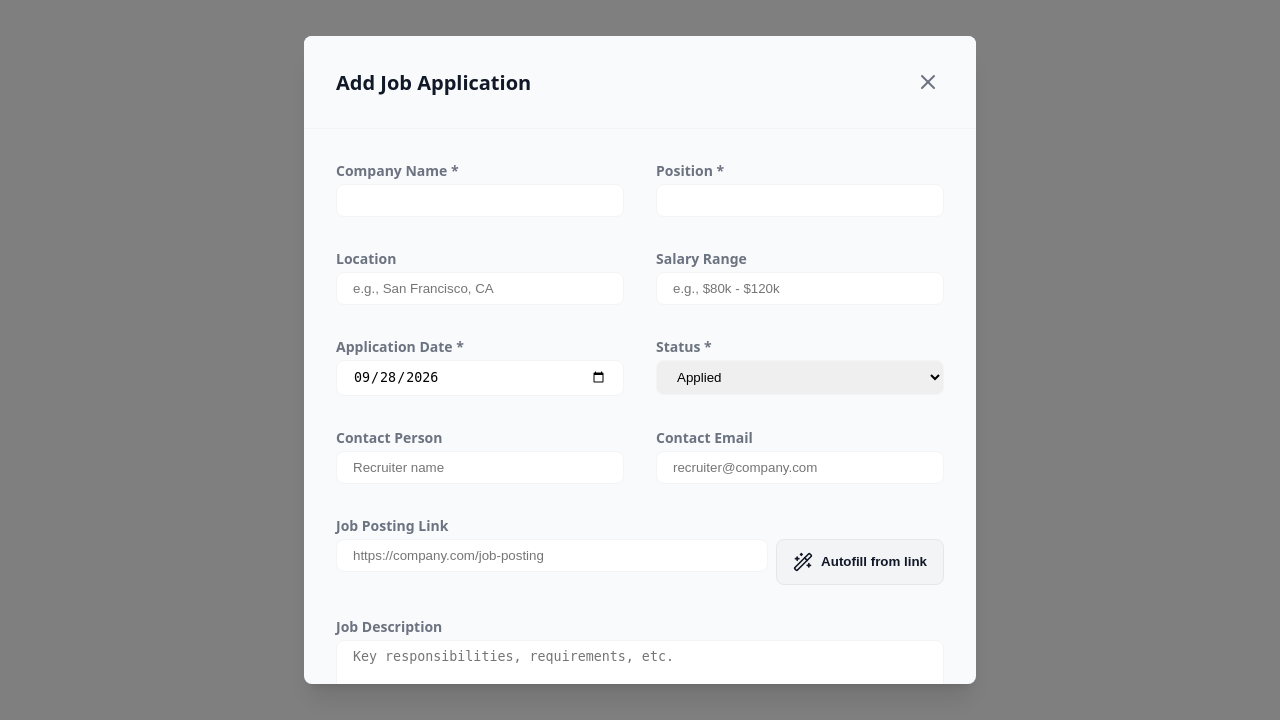
JobApplicationForm autofill › fills in the fields returned by the parse-job-posting service on success
The image size is (1280, 720).
In the field with placeholder "https://company.com/job-posting": (552, 555) [336,538,768,572], type "https://example.com/jobs/123"
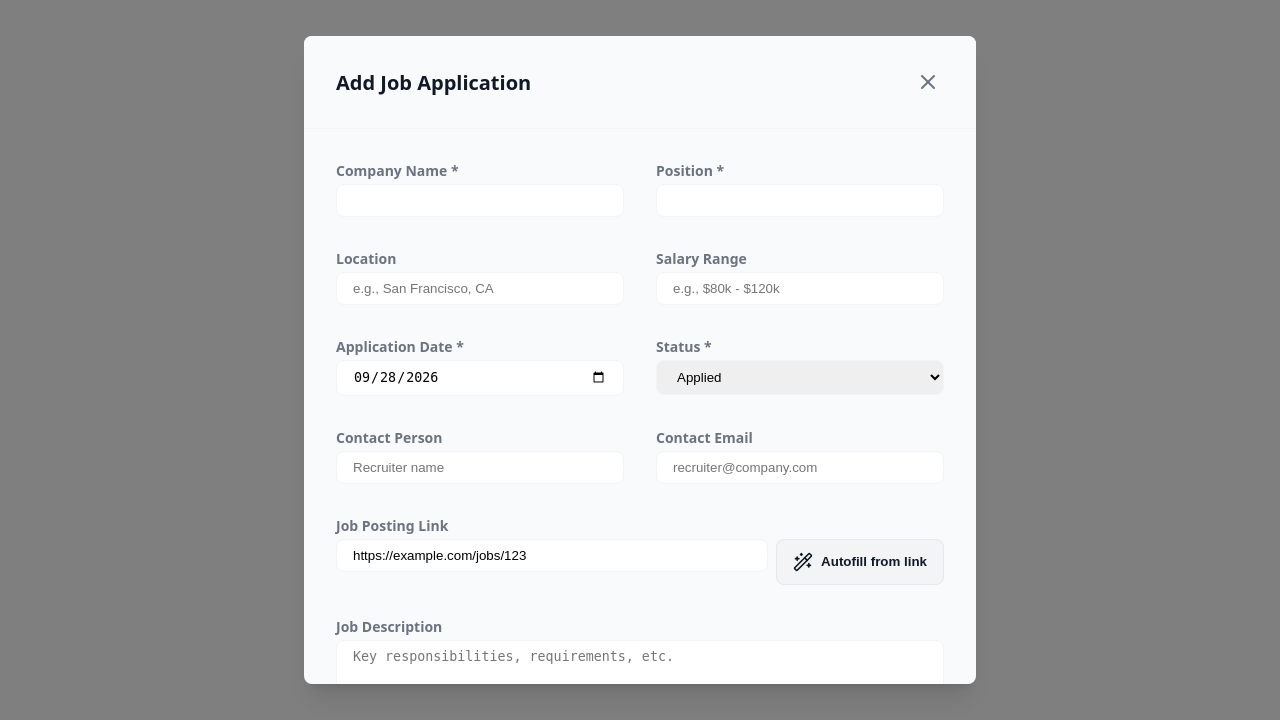
Click the button "Autofill from link": (860, 562) [776,538,944,584]
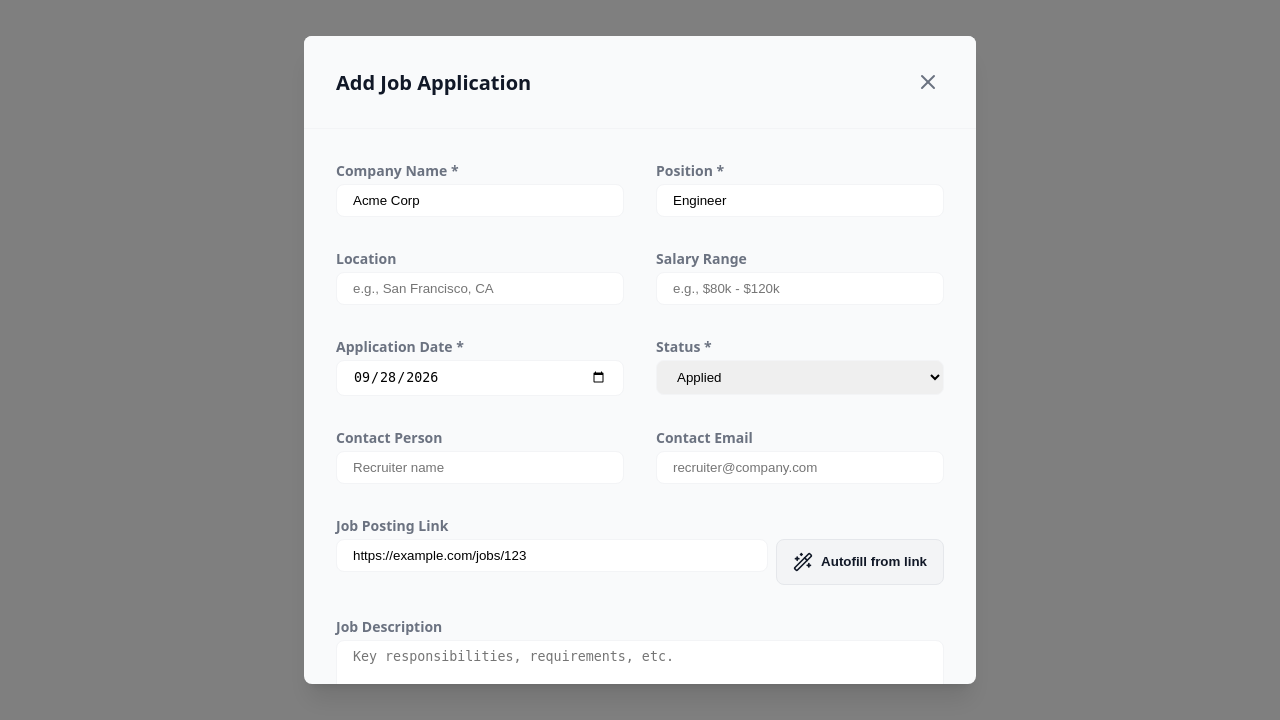
Check: the field showing "Acme Corp" below "Company Name *" is shown, box [336,184,624,217]
Check: the field showing "Engineer" below "Position *" is shown, box [656,184,944,217]
